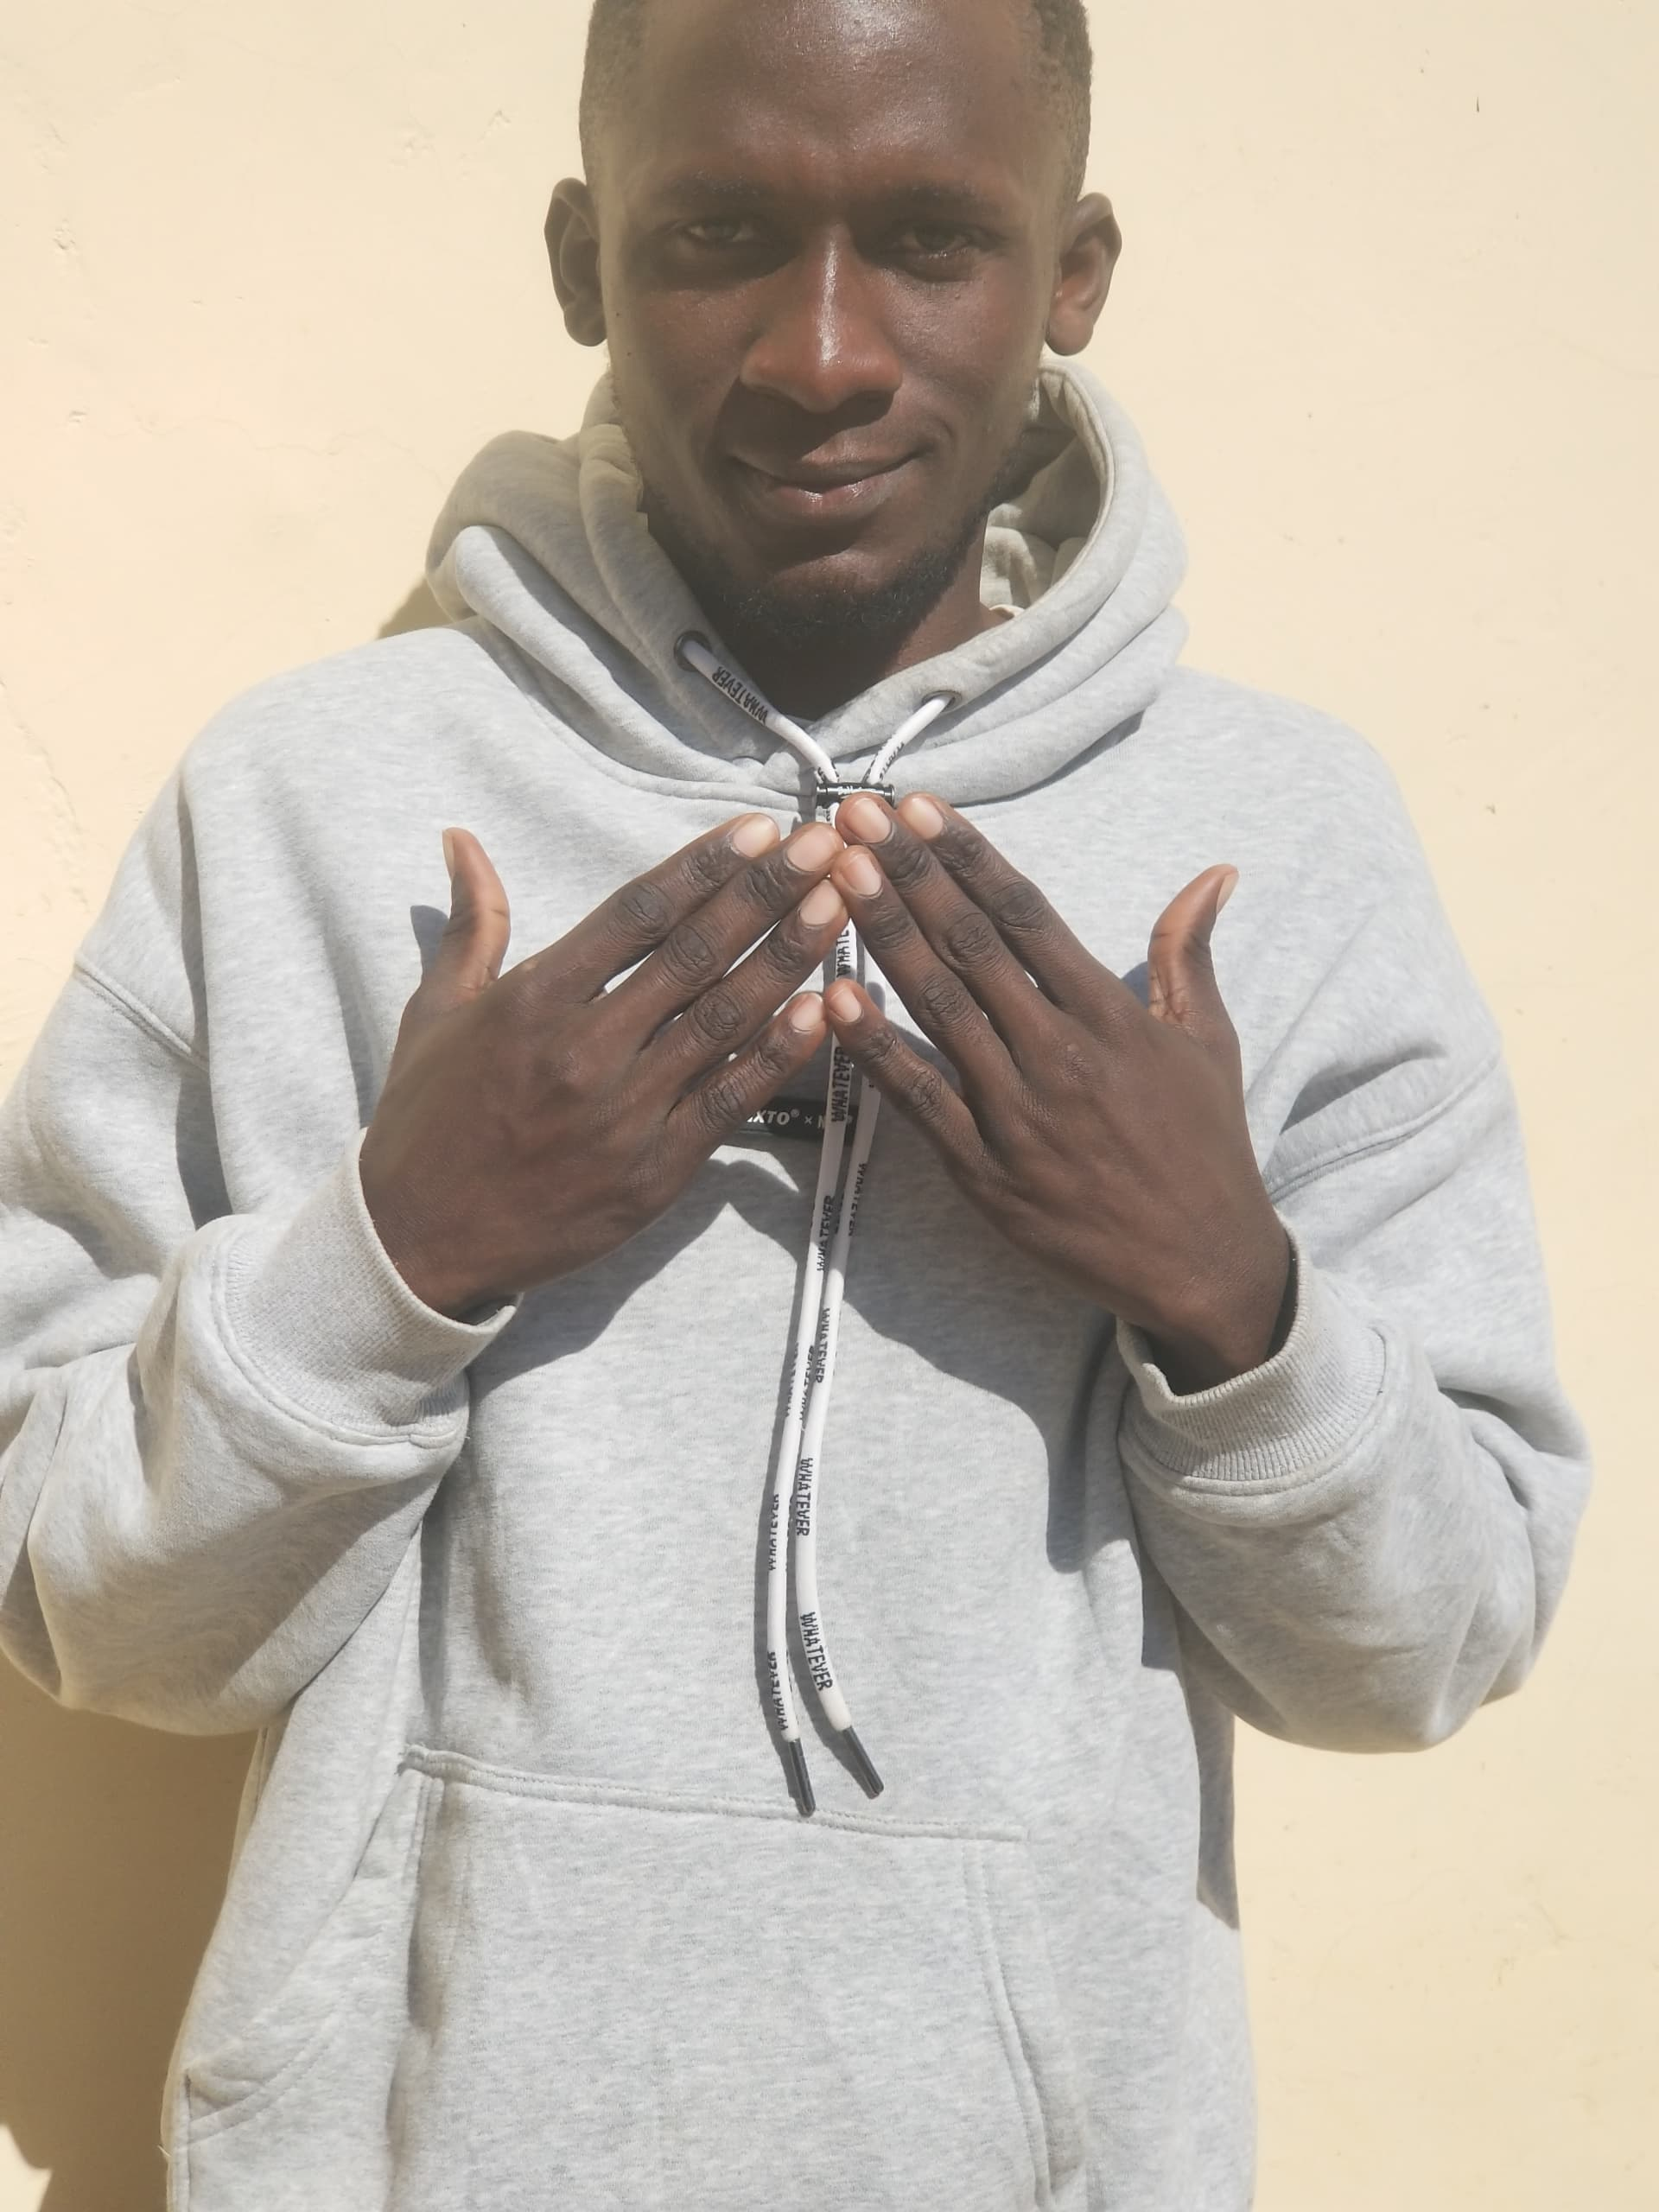thankyou: (289, 636, 1342, 1460)
